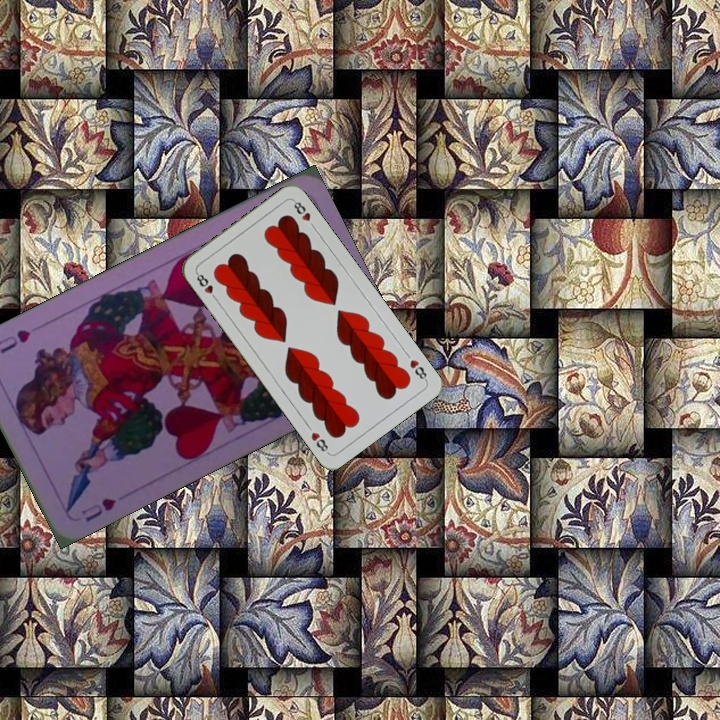H8: (192, 268, 221, 304), (406, 355, 430, 384)
HU: (77, 493, 119, 525)
